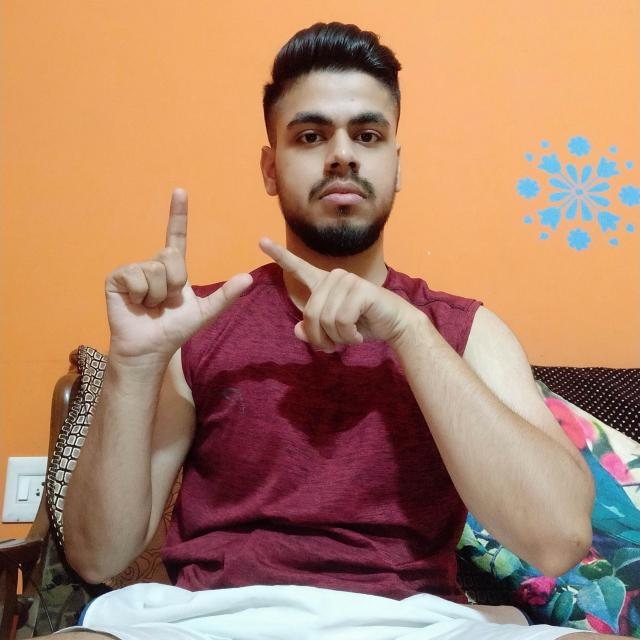J: (86, 179, 421, 386)
